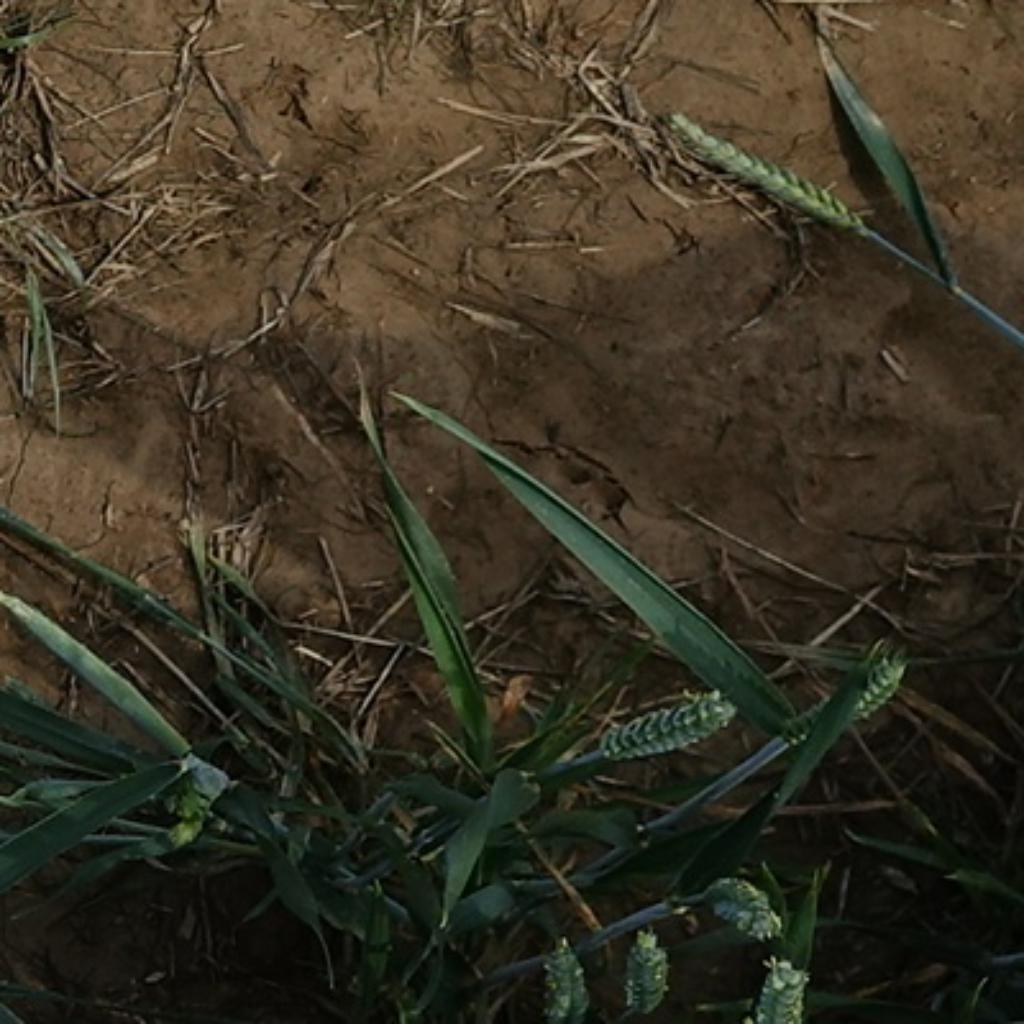0-0: (668, 106, 880, 247), (586, 692, 750, 772), (691, 865, 785, 944), (529, 931, 599, 1024), (152, 769, 231, 847), (739, 947, 816, 1024), (839, 649, 915, 724), (612, 930, 679, 1015)
